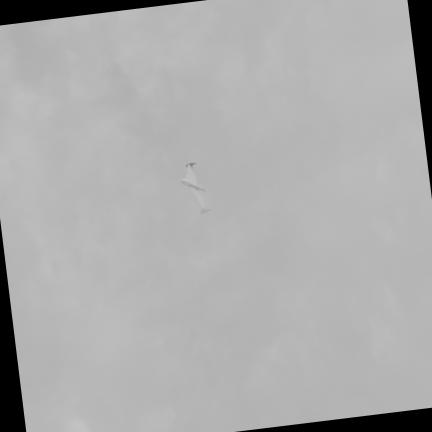Shahed: (180, 162, 208, 213)
